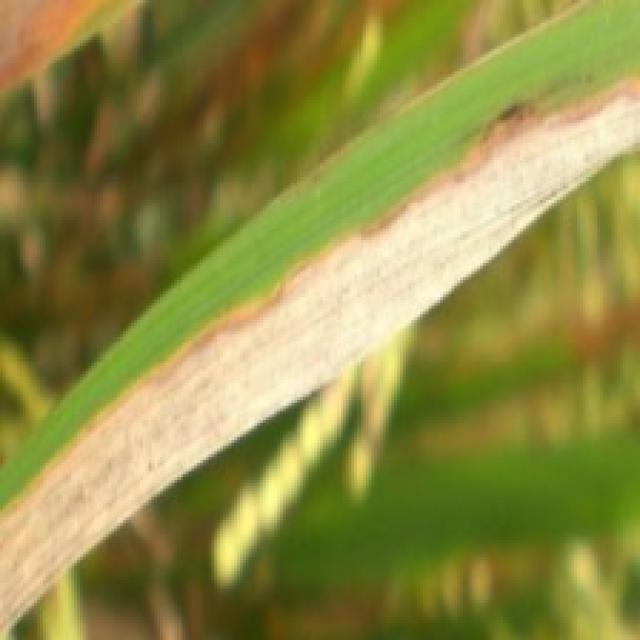Rice___Bacterial_Leaf_Blight: (0, 0, 637, 637)
